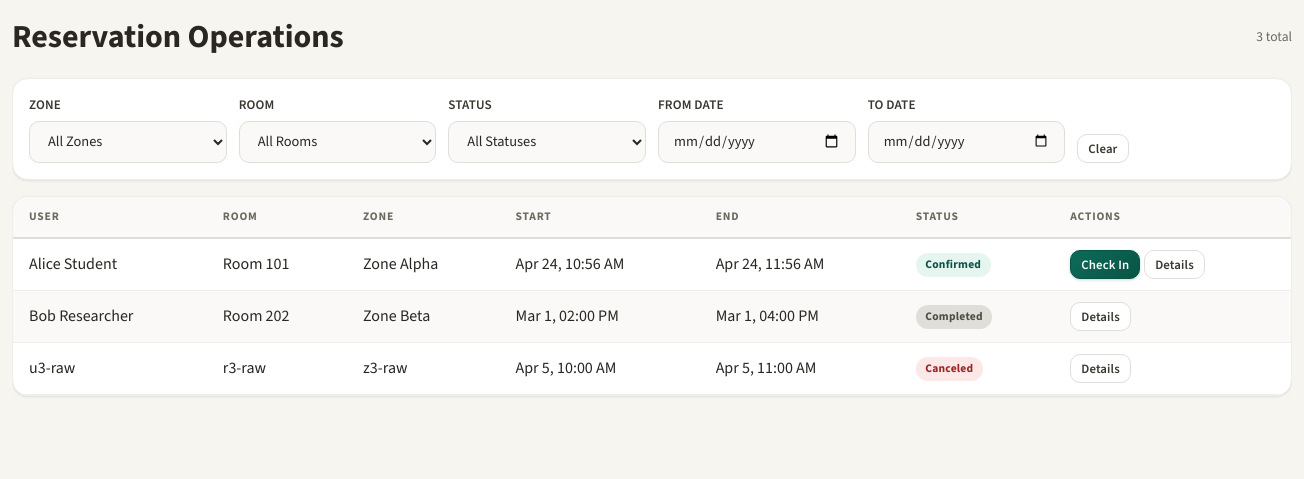
Test case: ReservationOpsPage › Check-in action › shows error when check-in fails
Click the button "Check In". click: (1105, 264)
box: x1=1070 y1=250 x2=1140 y2=279
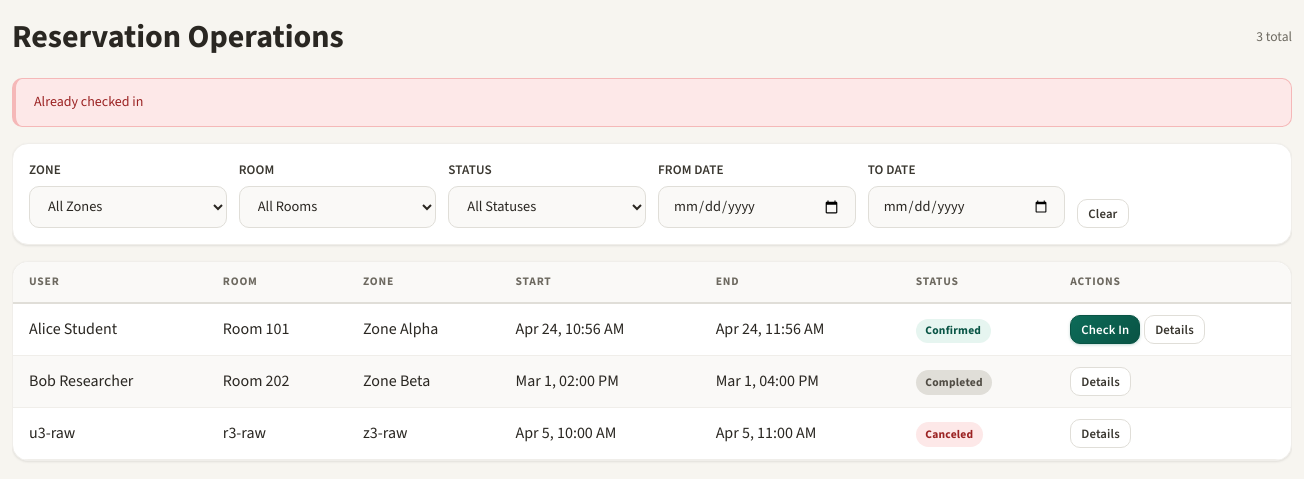
Check: the text "Already checked in" is shown, box x1=12 y1=78 x2=1292 y2=127
